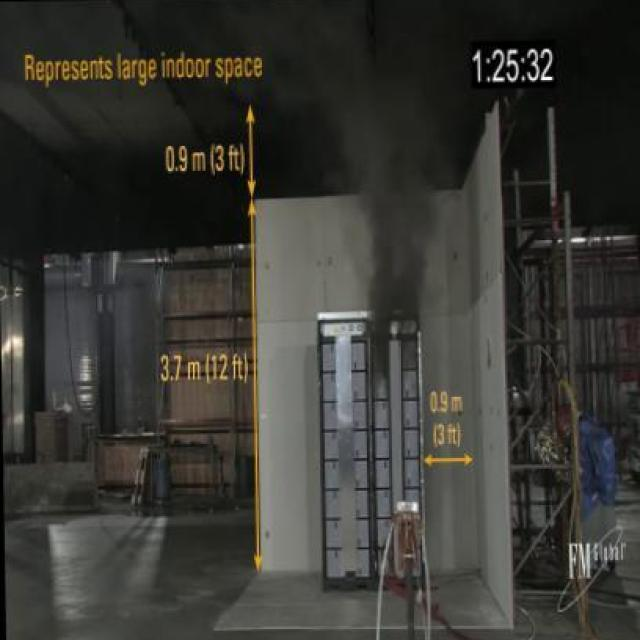fire: (329, 79, 444, 302)
